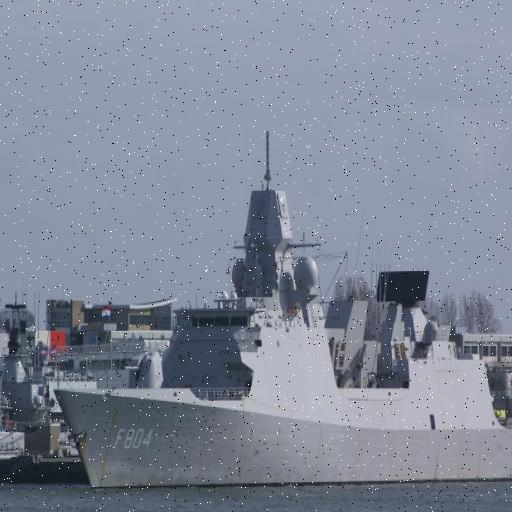Fragata: (47, 127, 512, 497)
